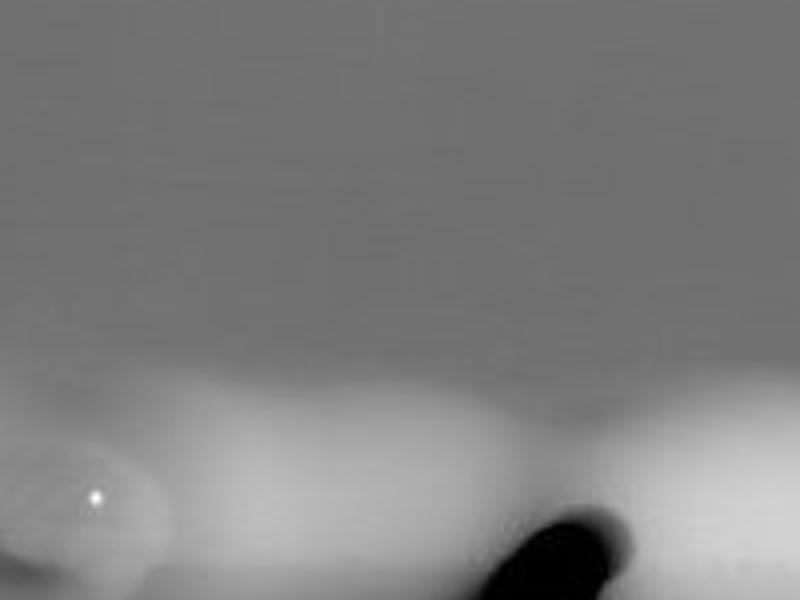defect: (476, 511, 619, 600)
